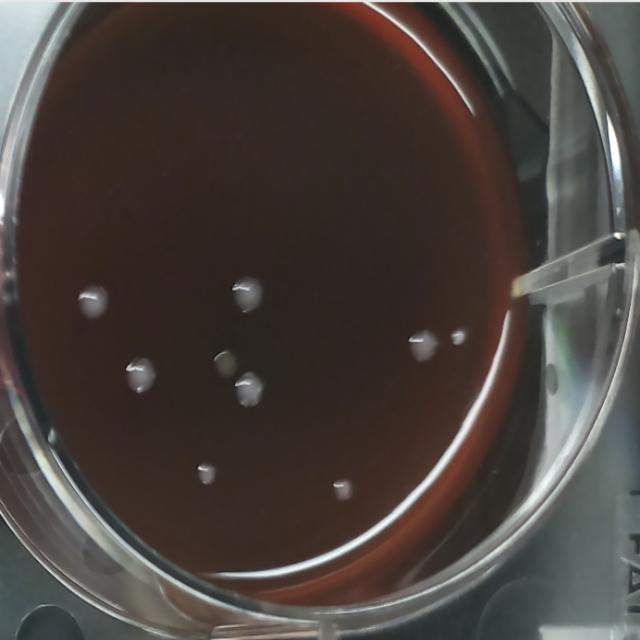Acinetobacter: (228, 271, 267, 319), (73, 280, 114, 325), (121, 352, 160, 399), (405, 324, 442, 368), (232, 367, 268, 412), (327, 473, 357, 509), (192, 456, 220, 491)
Staphylococcus: (448, 326, 468, 351)
Vagococcus: (208, 346, 242, 385)
